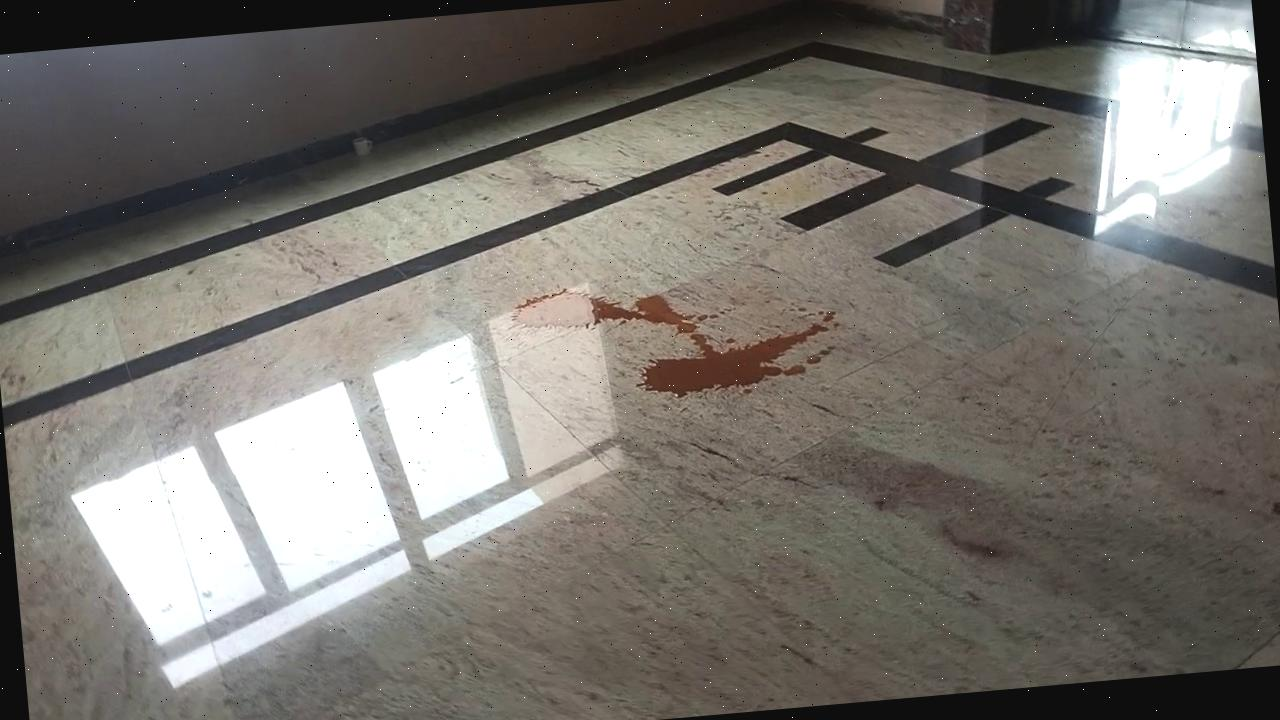dirty_floor: (506, 263, 846, 411)
